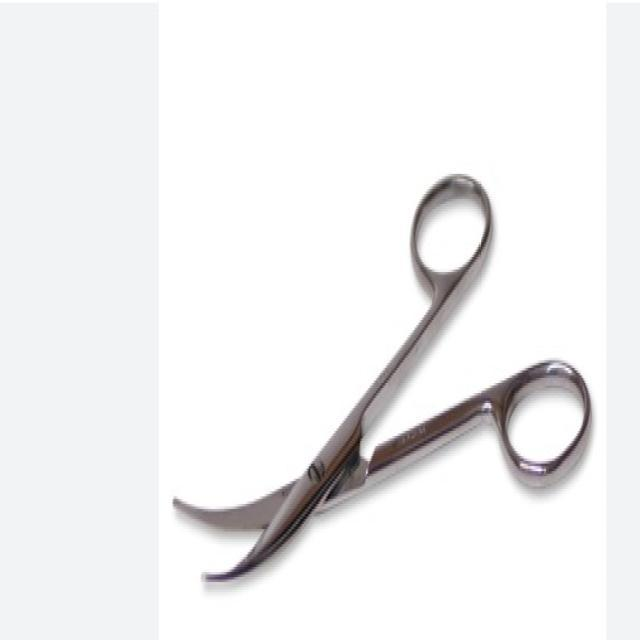Curved Mayo: (172, 162, 596, 594)
